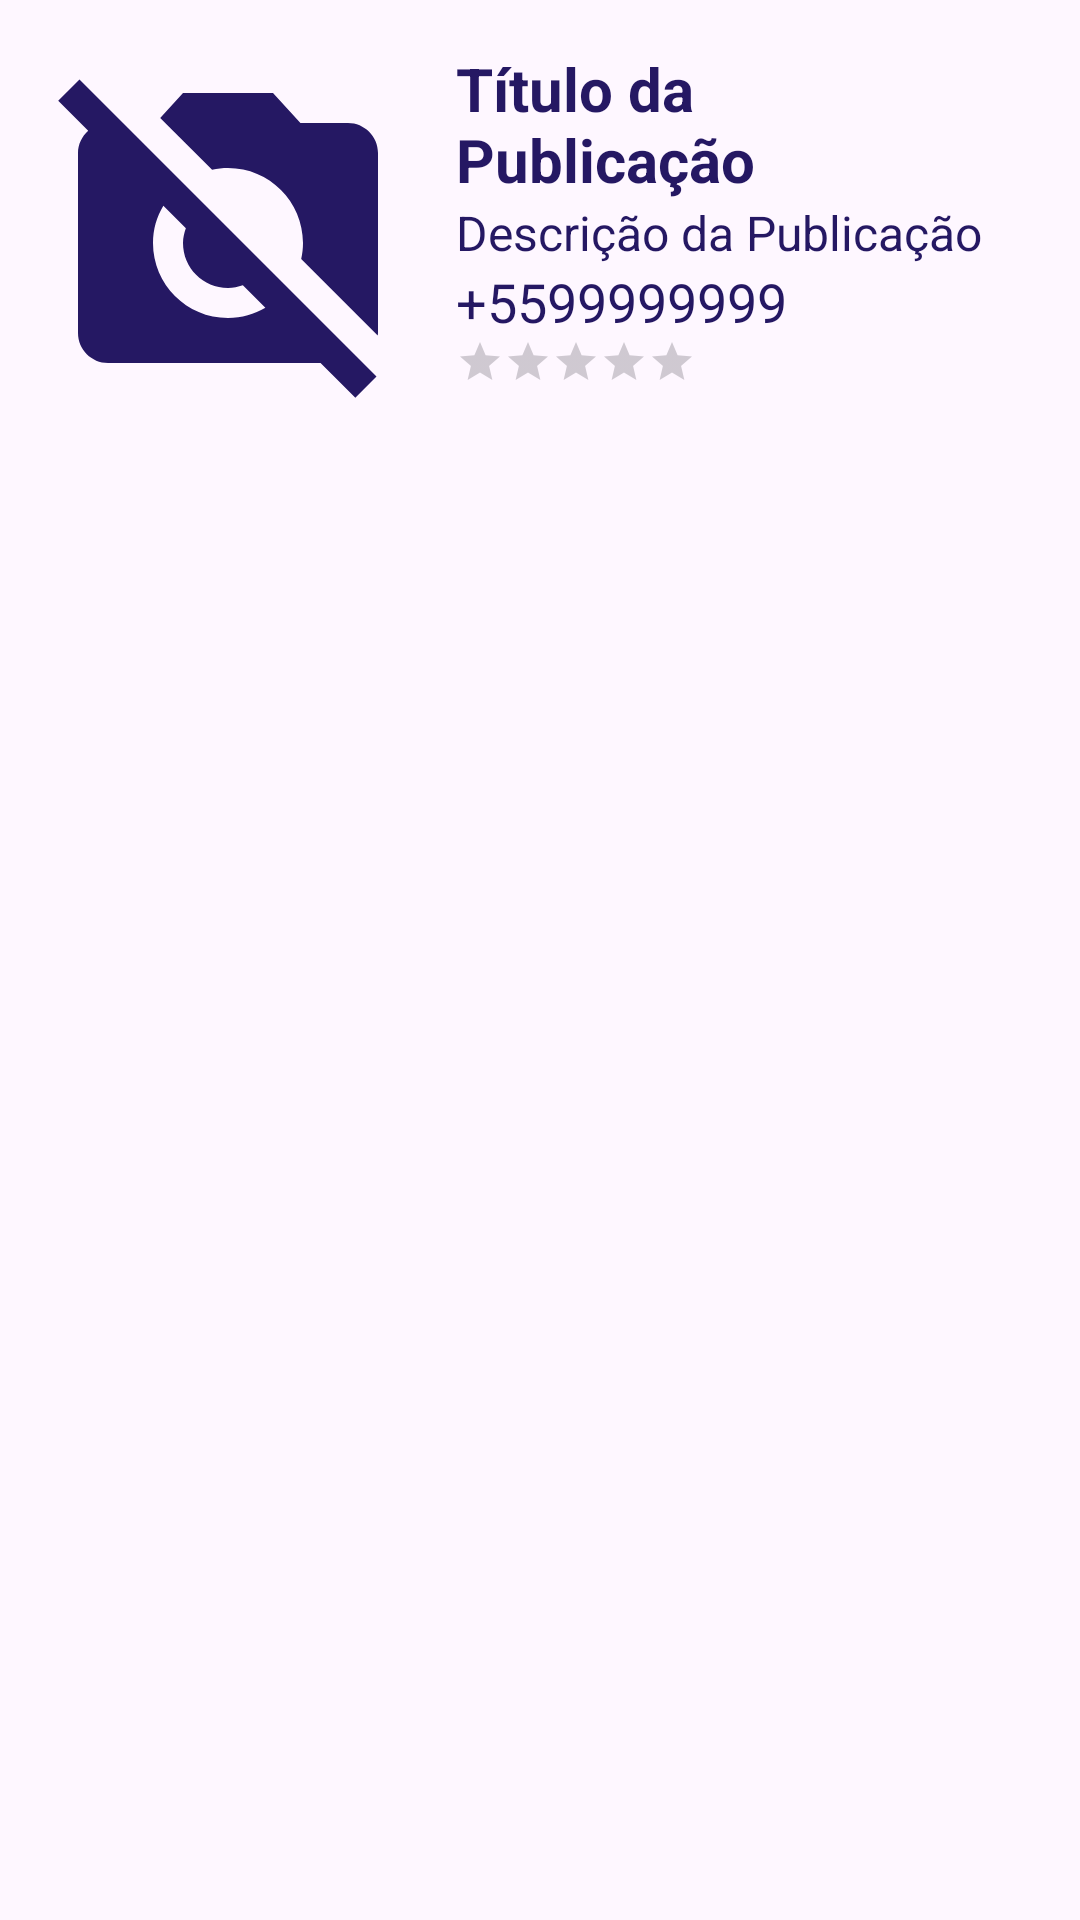

Named icons in this screenshot (1080*1920) and their centers, (x,y):
no photography: (218,238)
